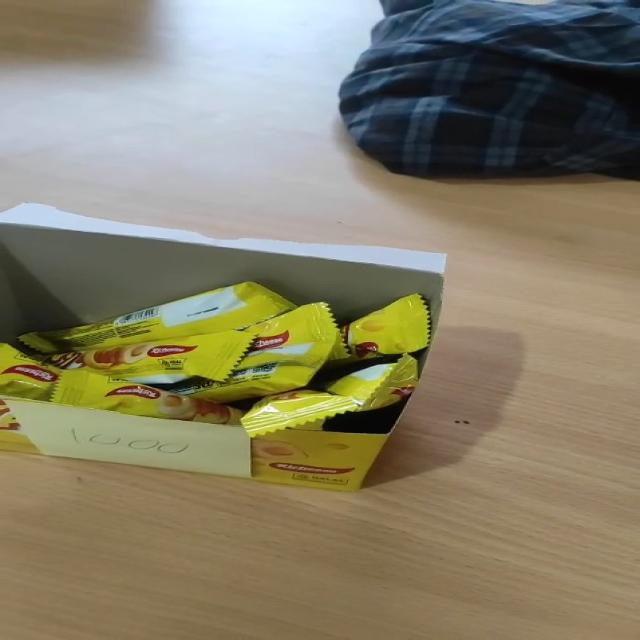Ahh: (21, 282, 292, 352), (43, 331, 250, 385), (52, 372, 241, 425), (332, 294, 430, 364), (238, 303, 337, 370), (170, 362, 316, 403), (241, 390, 357, 437), (324, 355, 416, 411), (0, 346, 60, 401)
